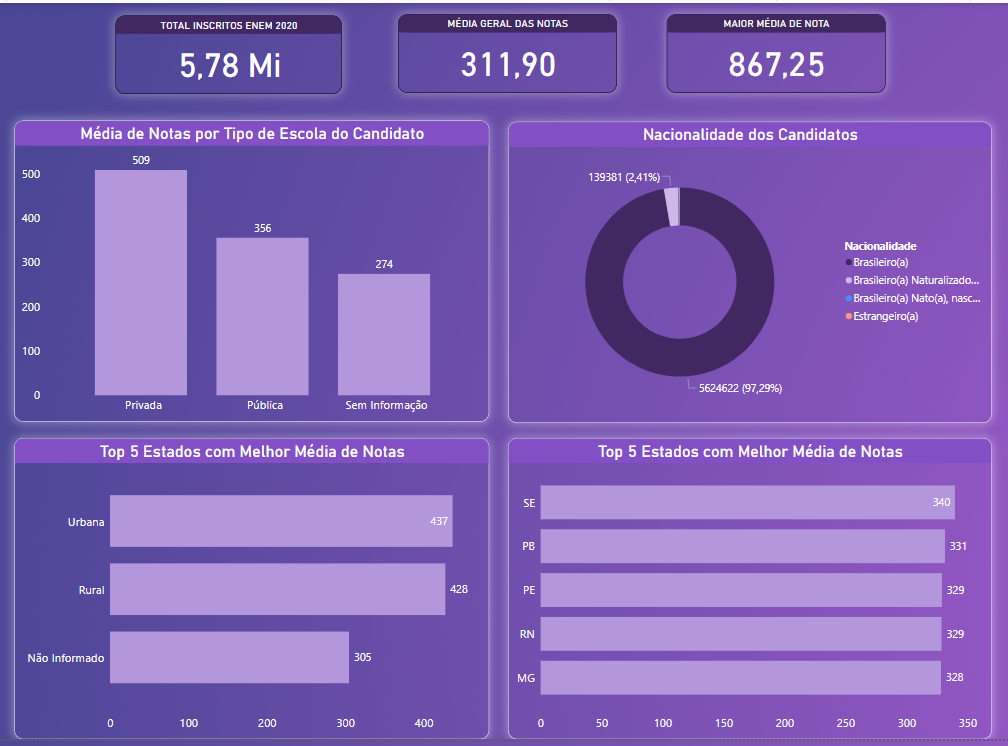

Layout of this report page (visuals, bound fields, positions):
{"tool":"powerbi","page":{"name":"Descrição Geral Enem 2020","canvas":[1650,1200],"ordinal":2},"visuals":[{"type":"columnChart","title":"Média de Notas por Tipo de Escola do Candidato","fields":{"Category":["public dim_escola.tipo_escola"],"Y":["public fat_notas.Media_Geral"]},"box":[26.5,191.6,774.5,491.2],"z":0},{"type":"barChart","title":"Top 5 Estados com Melhor Média de Notas","fields":{"Category":["public dim_localidade.uf"],"Y":["public fat_notas.Media_Geral"]},"box":[831.5,709.2,788.7,491.2],"z":1},{"type":"clusteredBarChart","title":"Top 5 Estados com Melhor Média de Notas","fields":{"Category":["public dim_escola.localizacao_esc"],"Y":["public fat_notas.Media_Geral"]},"box":[26.5,709.2,774.5,491.2],"z":2},{"type":"card","title":"TOTAL INSCRITOS ENEM 2020","fields":{"Values":["public fat_notas.TOTAL_INSCRITOS"]},"box":[191.6,20.4,368.9,128.4],"z":3},{"type":"card","title":"MÉDIA GERAL DAS NOTAS","fields":{"Values":["public fat_notas.Media_Geral"]},"box":[652.2,18.3,356.7,128.4],"z":4},{"type":"card","title":"MAIOR MÉDIA DE NOTA","fields":{"Values":["public fat_notas.Maiores_Notas"]},"box":[1090.4,18.3,356.7,128.4],"z":5},{"type":"donutChart","title":"Nacionalidade dos Candidatos","fields":{"Y":["public fat_notas.TOTAL_INSCRITOS"],"Category":["public dim_candidato.nacionalidade"]},"box":[831.5,193.6,788.7,491.2],"z":6}]}

Visuals, with their boxes in screenshot pixels (x1, y1, x2, y2), scaled from the page's 1650x1200 canvas onto the 1008x746 screenshot:
"Média de Notas por Tipo de Escola do Candidato" columnChart: select_region(16, 119, 489, 424)
"Top 5 Estados com Melhor Média de Notas" barChart: select_region(508, 441, 990, 745)
"Top 5 Estados com Melhor Média de Notas" clusteredBarChart: select_region(16, 441, 489, 745)
"TOTAL INSCRITOS ENEM 2020" card: select_region(117, 13, 342, 93)
"MÉDIA GERAL DAS NOTAS" card: select_region(398, 11, 616, 91)
"MAIOR MÉDIA DE NOTA" card: select_region(666, 11, 884, 91)
"Nacionalidade dos Candidatos" donutChart: select_region(508, 120, 990, 426)
